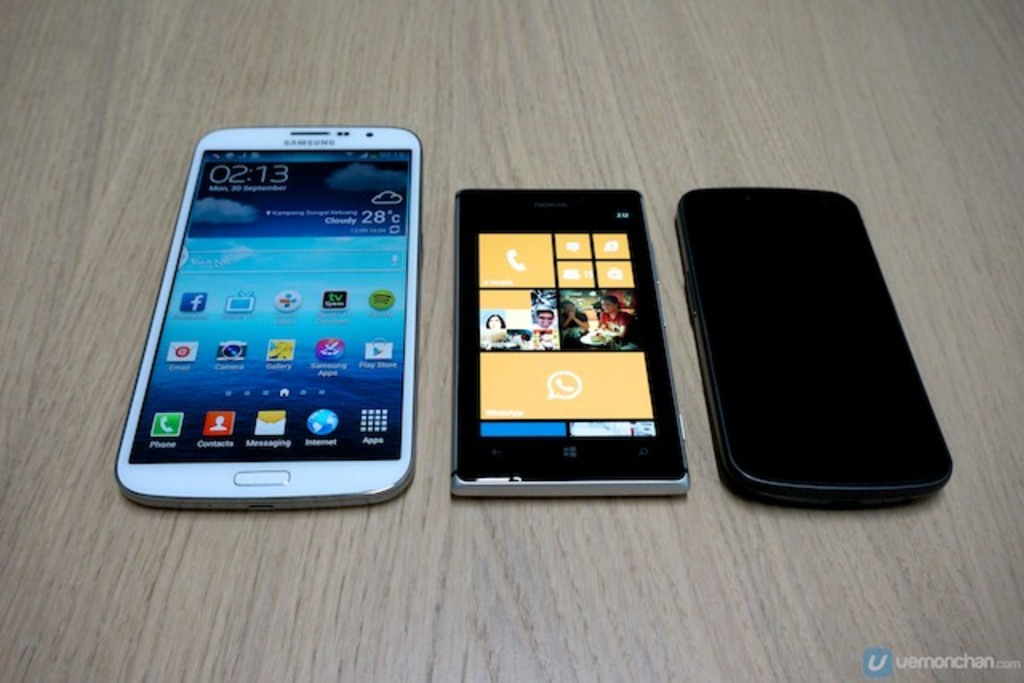mobile phone: (113, 126, 414, 511), (679, 185, 948, 508), (452, 187, 691, 499)
